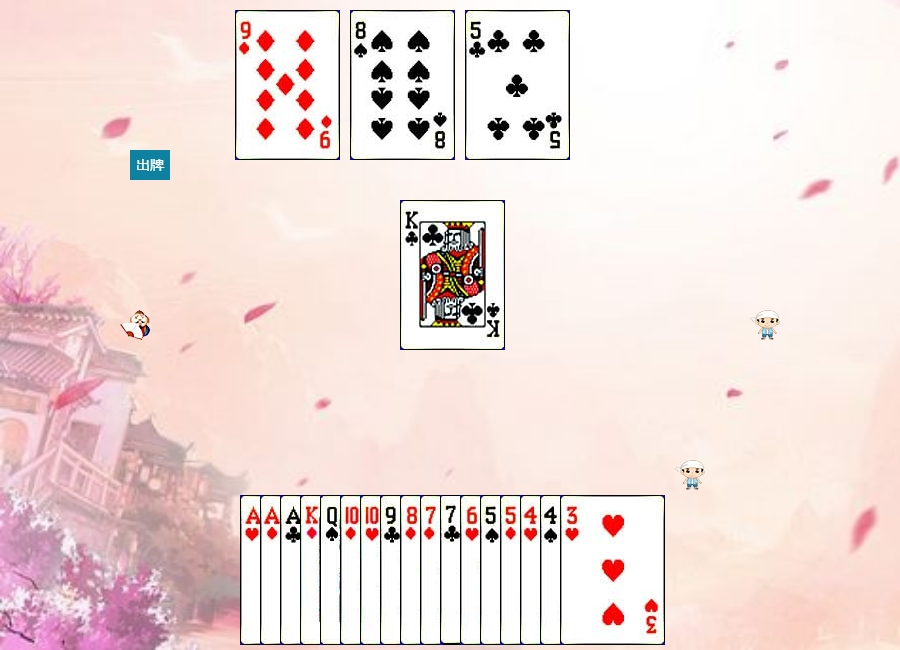10~1: (340, 495, 445, 645)
10~3: (360, 495, 465, 645)
12~4: (320, 495, 425, 645)
13~1: (300, 495, 405, 645)
13~2: (400, 200, 505, 350)
14~1: (260, 495, 365, 645)
14~2: (280, 495, 385, 645)
14~3: (240, 495, 345, 645)
3~3: (560, 495, 665, 645)
4~3: (520, 495, 625, 645)
4~4: (540, 495, 645, 645)
5~1: (500, 495, 605, 645)
5~2: (465, 10, 570, 160)
5~4: (480, 495, 585, 645)
6~3: (460, 495, 565, 645)
7~1: (420, 495, 525, 645)
7~2: (440, 495, 545, 645)
8~1: (400, 495, 505, 645)
8~4: (350, 10, 455, 160)
9~1: (235, 10, 340, 160)
9~2: (380, 495, 485, 645)
